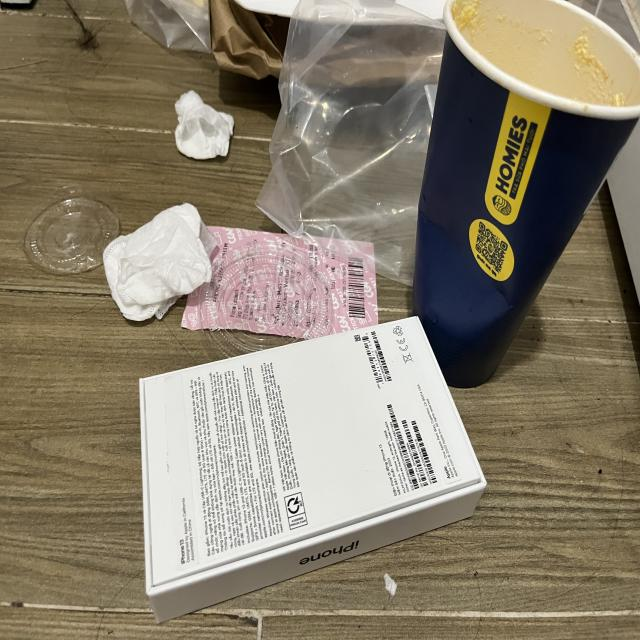bag: (253, 0, 448, 292)
cardboard box: (140, 312, 483, 620)
lid: (25, 189, 120, 275)
napkin: (105, 202, 215, 322), (175, 89, 238, 158)
paper: (178, 222, 379, 338)
plastic glass: (413, 0, 640, 391)
